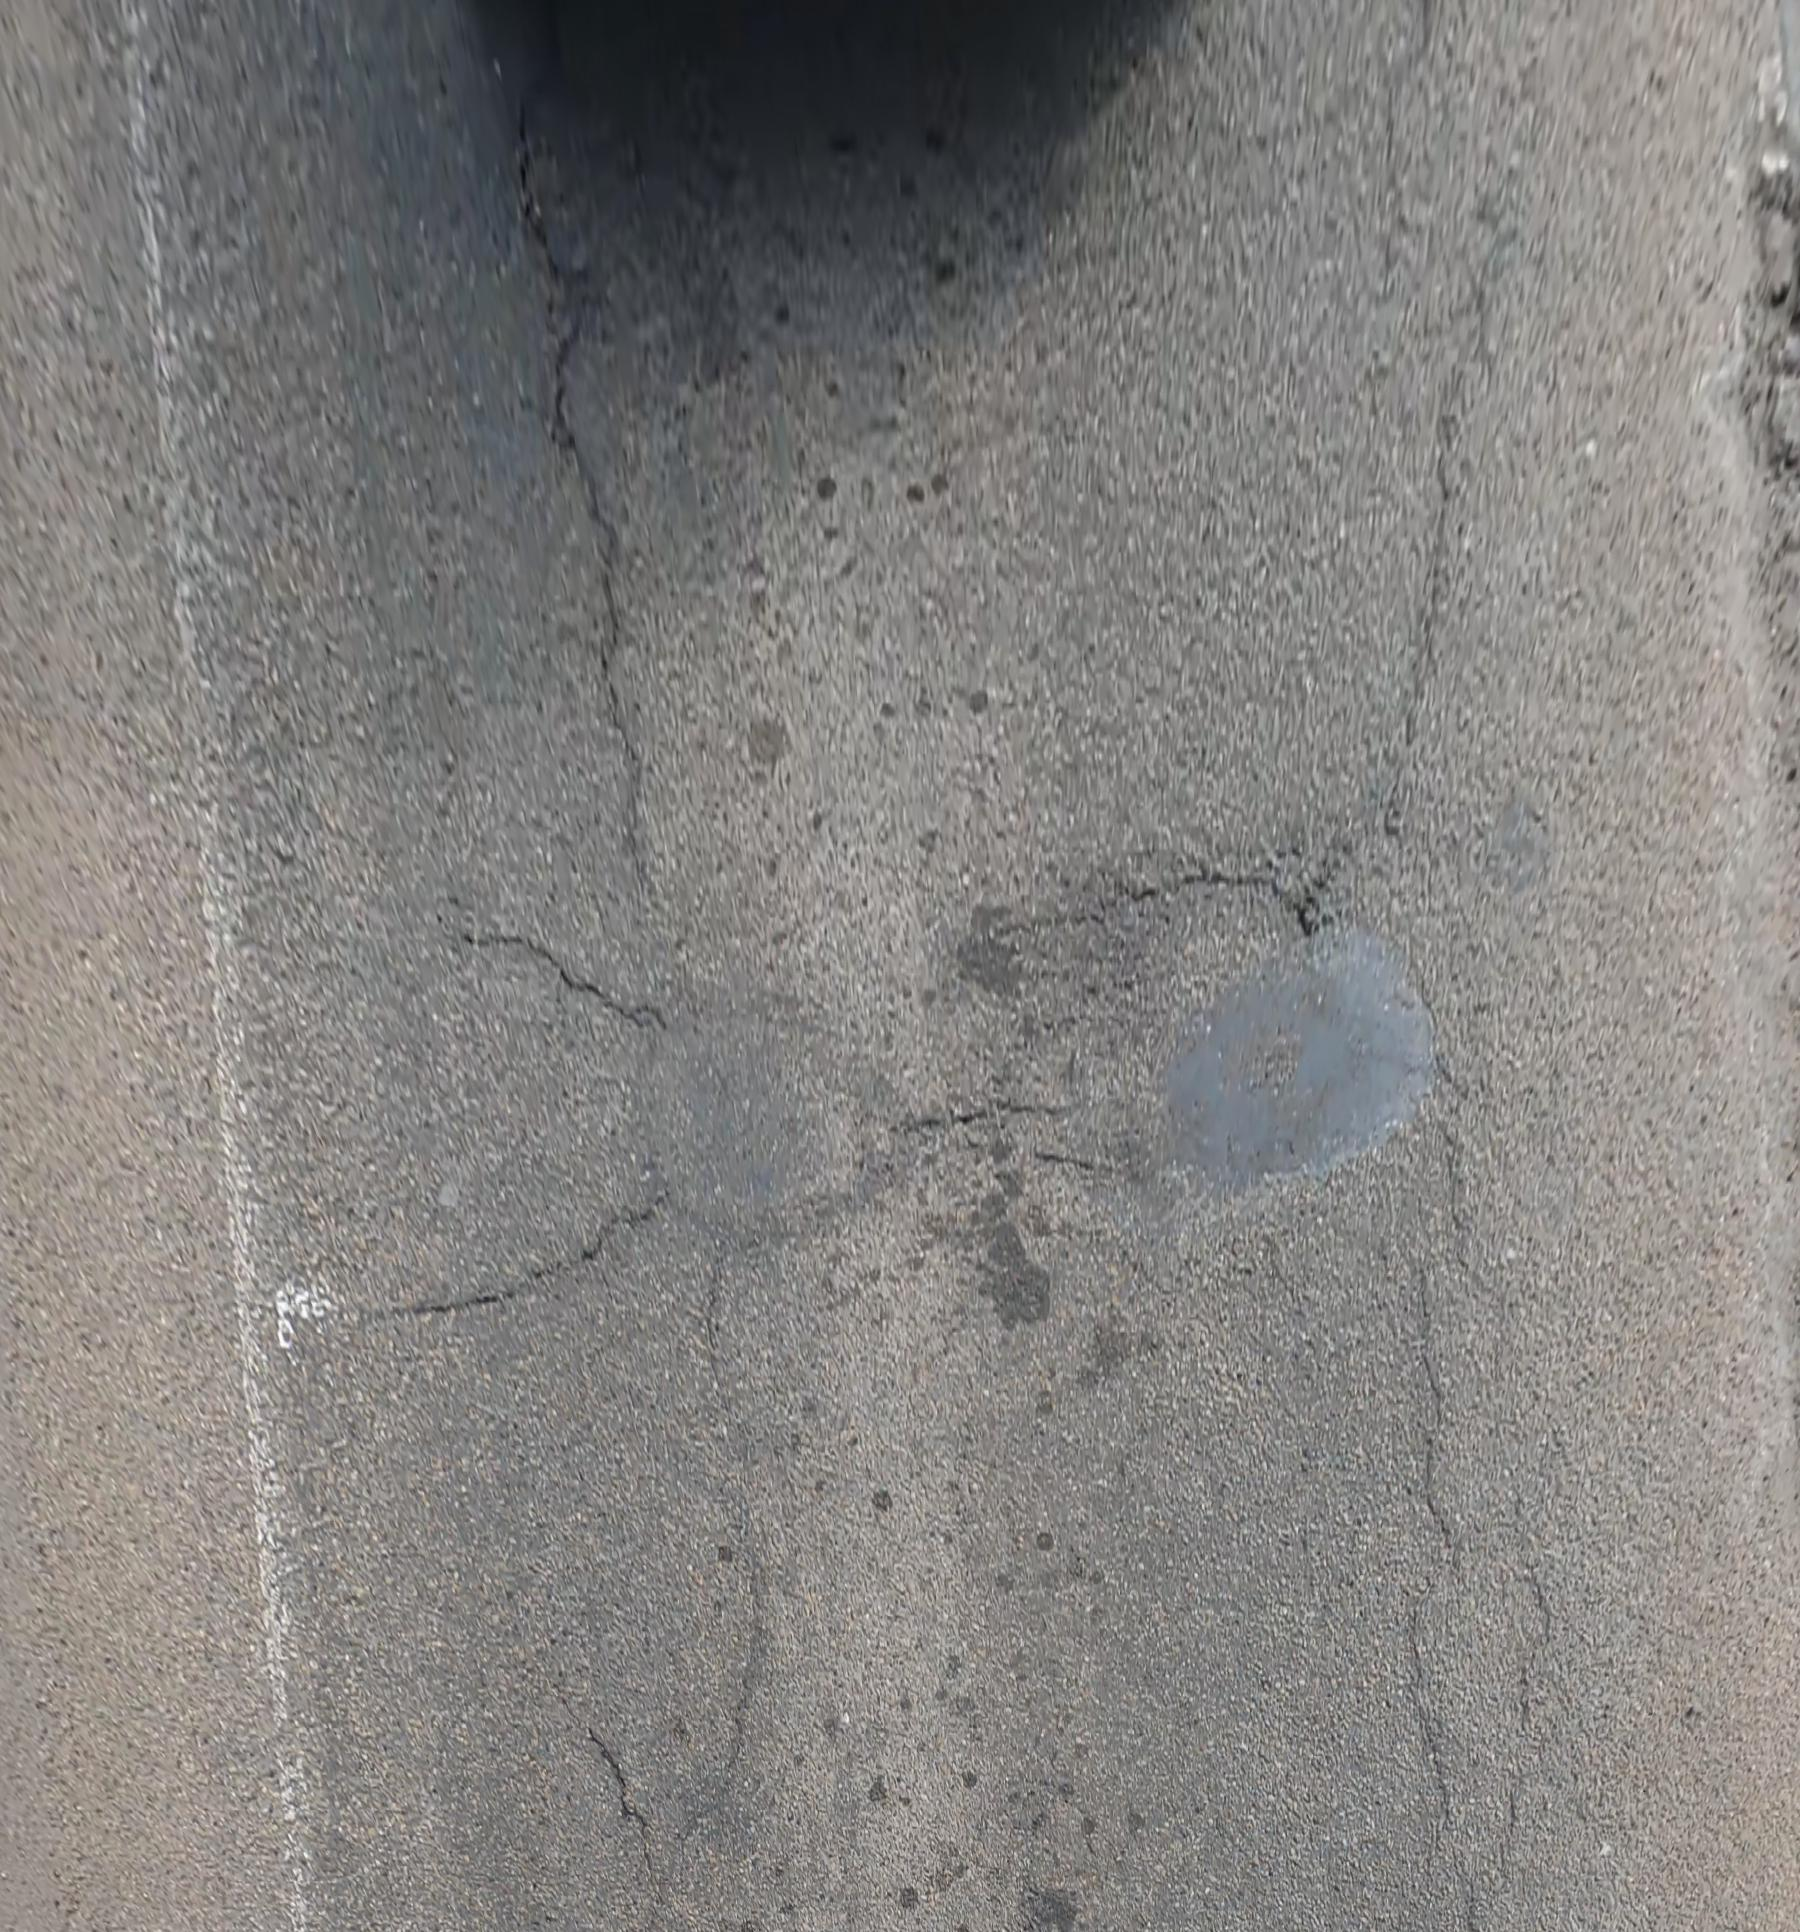pothole_patch_good: (1149, 925, 1430, 1215), (648, 985, 903, 1240)
